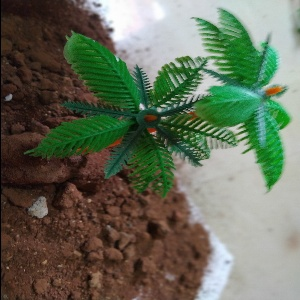plant: (15, 12, 297, 194)
